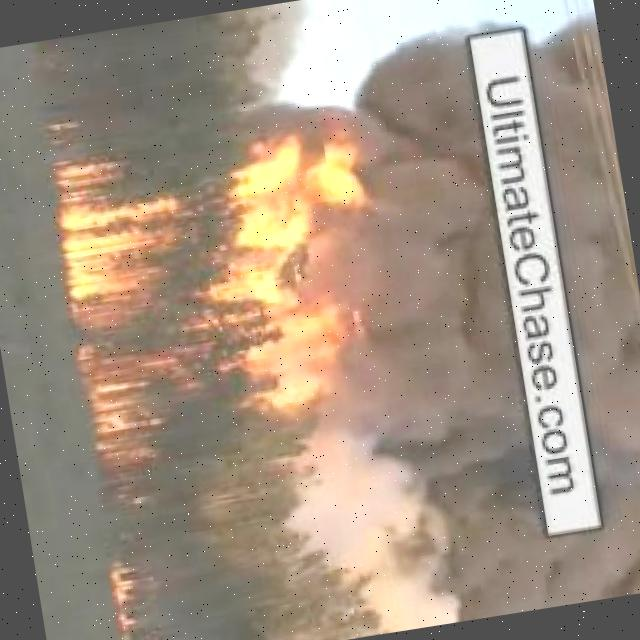fire: (49, 114, 400, 476), (106, 542, 149, 640)
